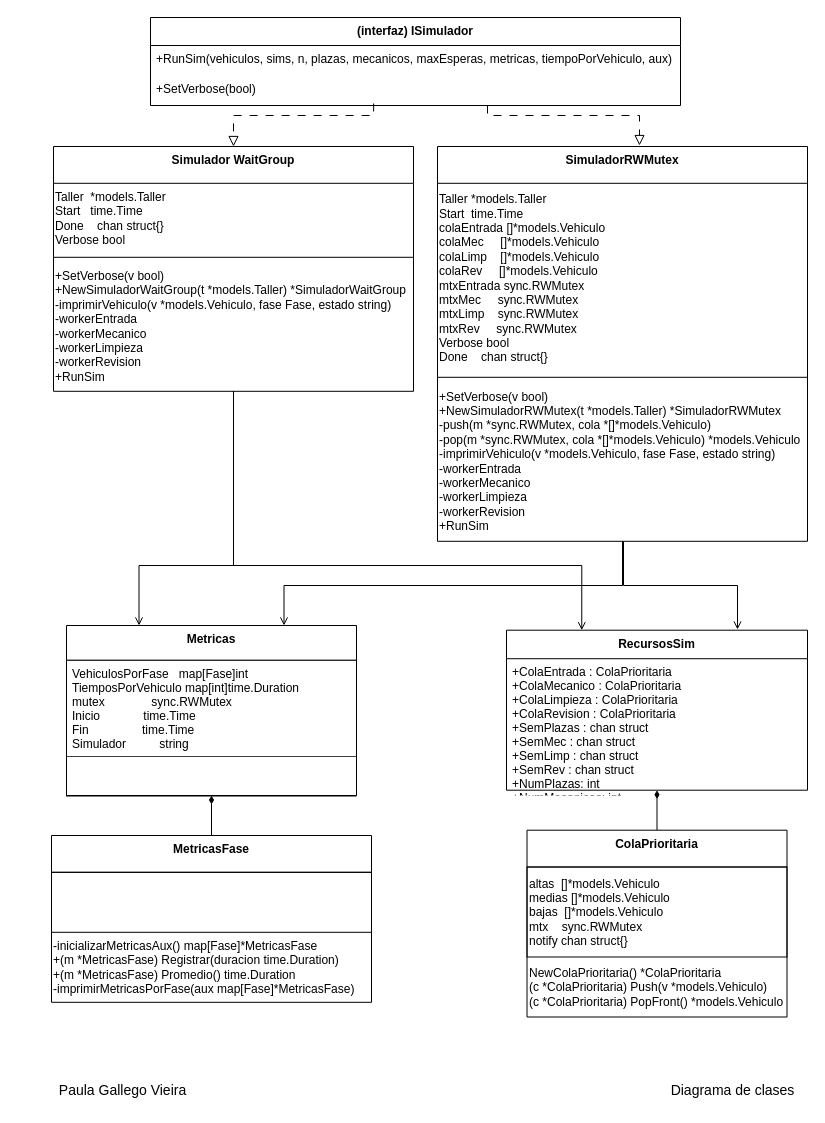
The diagram is 825 pixels wide and 1123 high, and some of its shapes have lost their labels. Each missing label, with the centre of its shape:
"+ NuevaMetricas() *Metricas + (m *Metricas) RegistrarVehiculo(v, fase, duration)" belongs at point 211,776.
"+Min, Max, Total time.Duration +Contador int -mutex sync.mutex" belongs at point 211,901.
